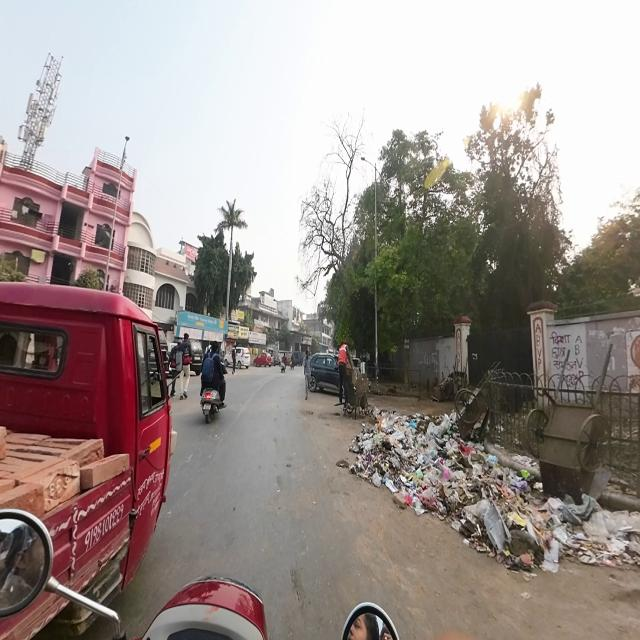Garbage: (477, 463, 531, 558), (422, 421, 475, 516), (566, 496, 638, 558), (380, 413, 420, 489), (534, 492, 564, 567), (354, 425, 384, 480)
